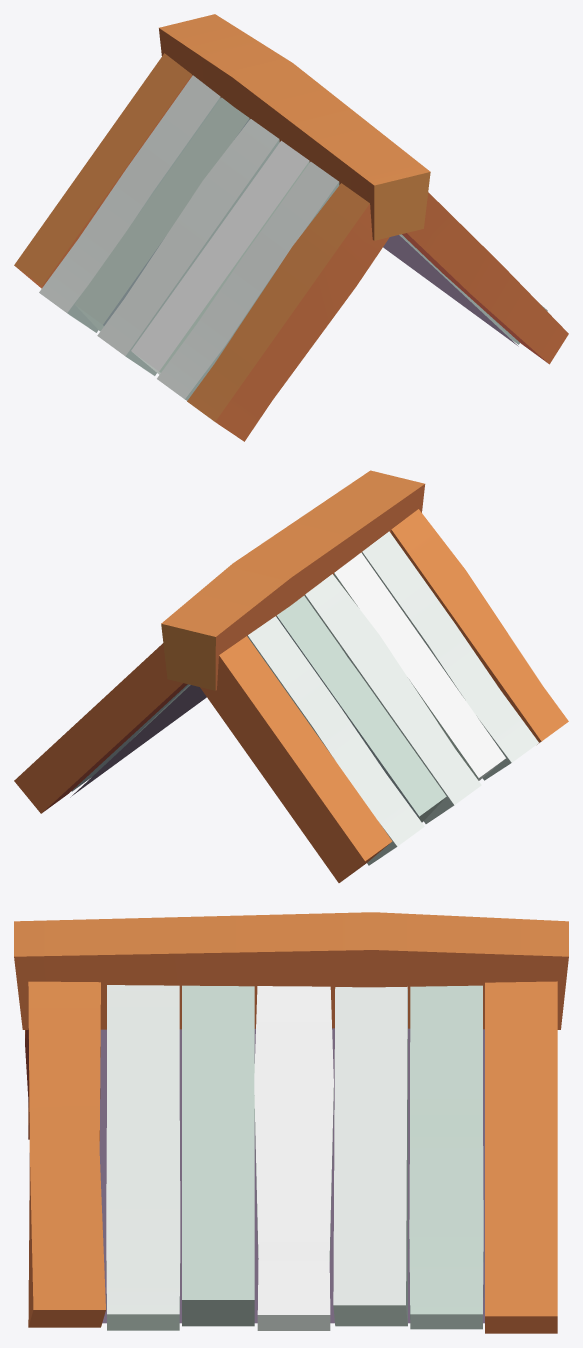
The model's file is Roof02_White_Wood.glb.
The picture shows the model from 3 angles, top to bottom: view 1: azimuth 30°, elevation 25°; view 2: azimuth 150°, elevation 25°; view 3: azimuth 270°, elevation 25°; orthographic projection. The views are drawn at different scales.
Visible parts, largest first — view 1: Roof02_White_Wood; view 2: Roof02_White_Wood; view 3: Roof02_White_Wood.
Part boxes in pixels (bbox=[...]): Roof02_White_Wood: bbox=[14, 14, 568, 441]; Roof02_White_Wood: bbox=[14, 470, 568, 882]; Roof02_White_Wood: bbox=[14, 912, 568, 1333].
Bounding box in the file's own units: 2.41 × 1.49 × 2.46.
Materials: 1 (1 with a texture image).
